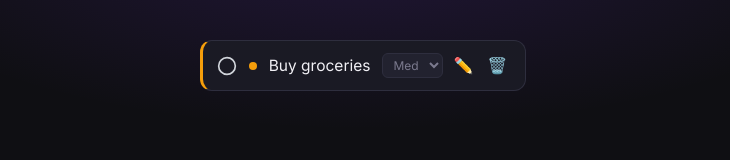
Test: TodoItem editing › cancels edit on Escape key and restores original text
Click the button with test id "edit-btn" at (463, 66), box top-left (449, 54), bottom-right (477, 78)
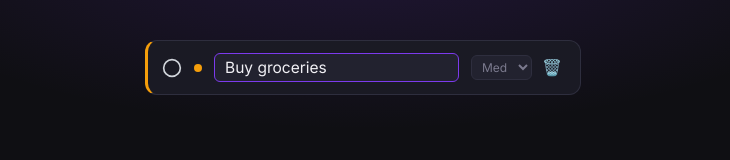
Replace the text in the field with test id "edit-input" with "Changed" at (336, 68), box top-left (214, 53), bottom-right (459, 82)
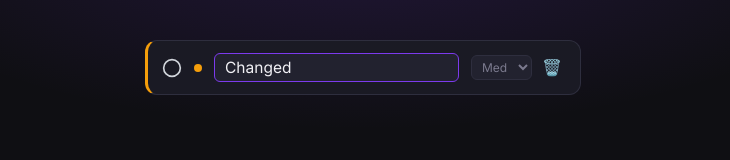
Press Escape in the field with test id "edit-input", box top-left (214, 53), bottom-right (459, 82)
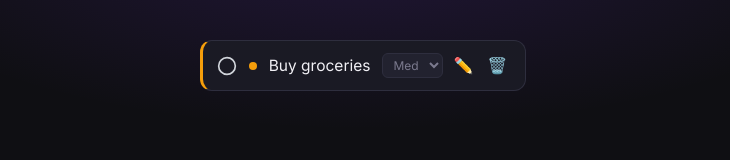
Now the button with test id "todo-text" reads "Buy groceries", box top-left (269, 55), bottom-right (370, 76)
